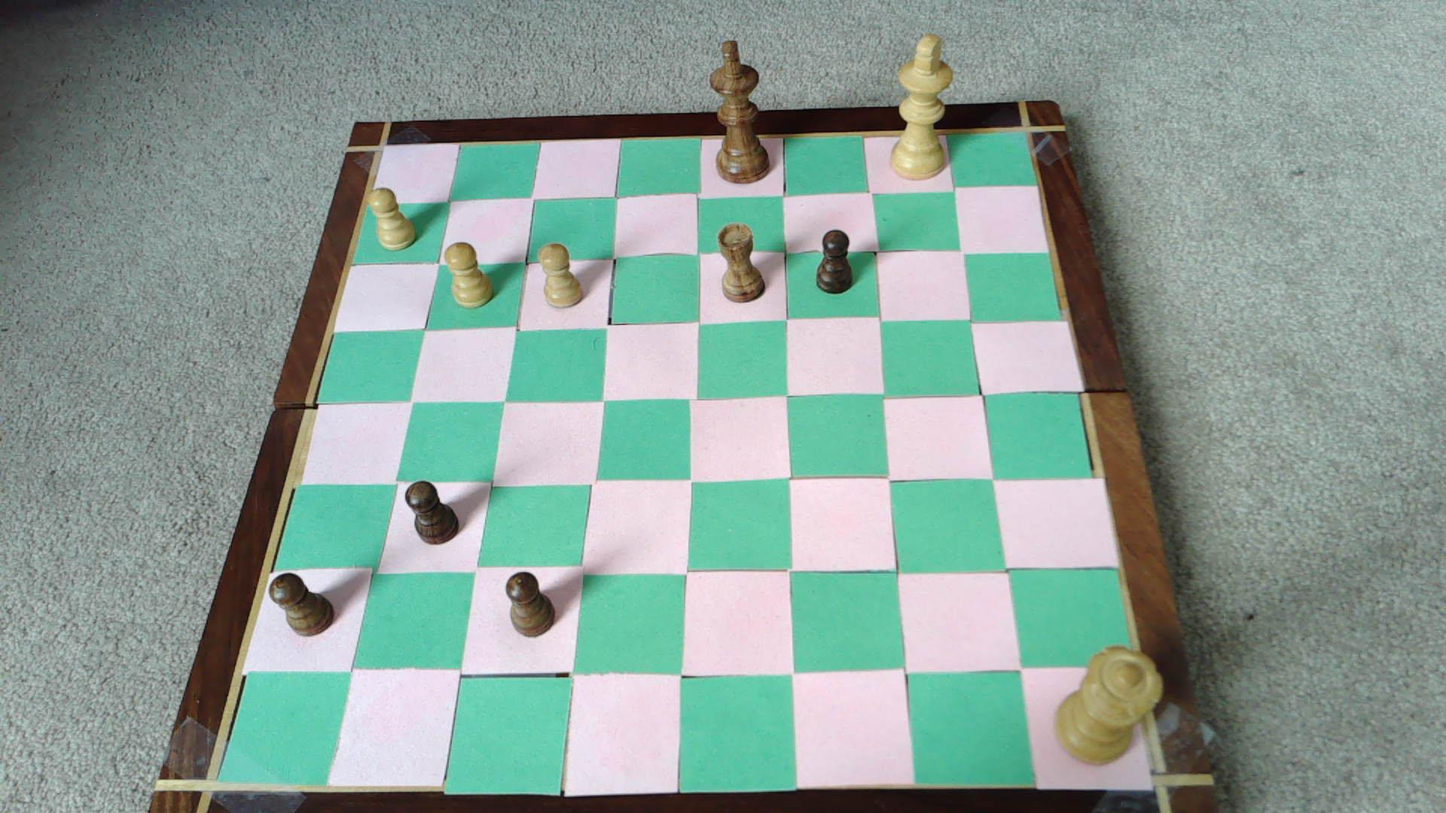dark_piece: (712, 41, 770, 183), (271, 573, 335, 636), (719, 224, 765, 301), (406, 481, 459, 543), (506, 571, 555, 636), (816, 230, 853, 293)
white_piece: (1057, 646, 1163, 763), (890, 33, 955, 179), (445, 242, 494, 306), (369, 188, 416, 250), (539, 243, 584, 307)
